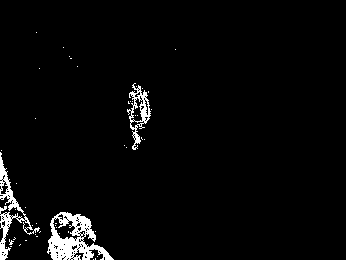person: (48, 212, 115, 260), (125, 81, 154, 155)
